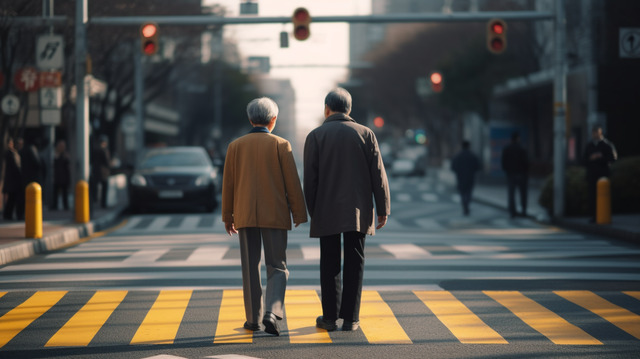person: (244, 99, 282, 135), (323, 85, 355, 121)
